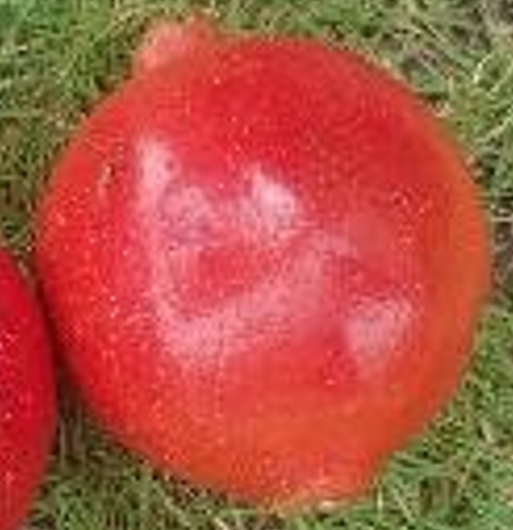pomegranate_A: (29, 9, 494, 509)
